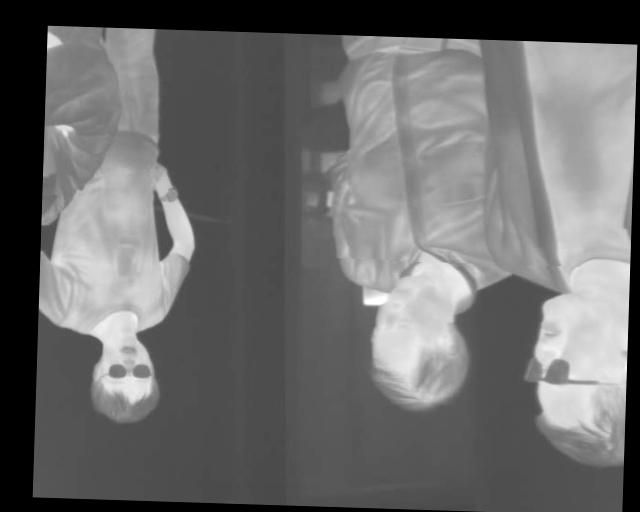face: (525, 292, 629, 469), (367, 275, 474, 412), (89, 330, 161, 425)
